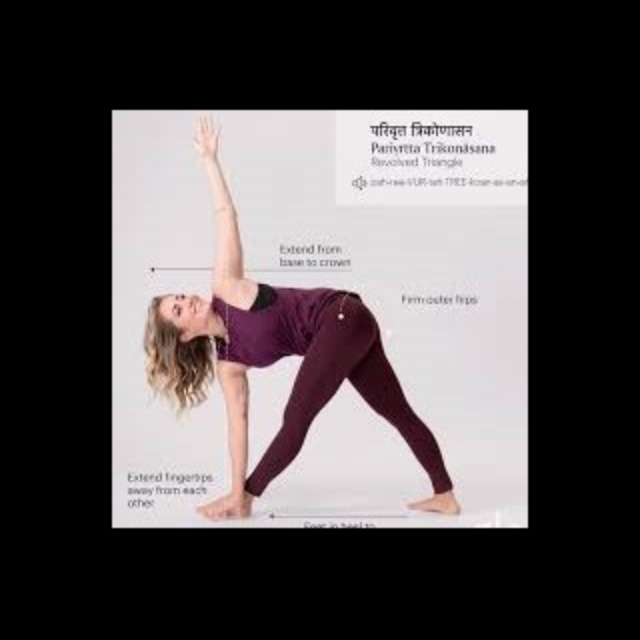Triangle_Pose: (124, 116, 469, 518)
